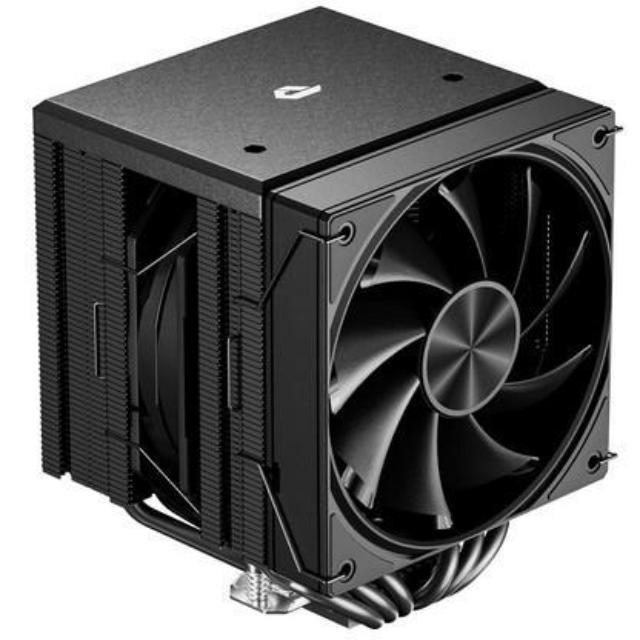CPU_Fan: (24, 0, 624, 637)
